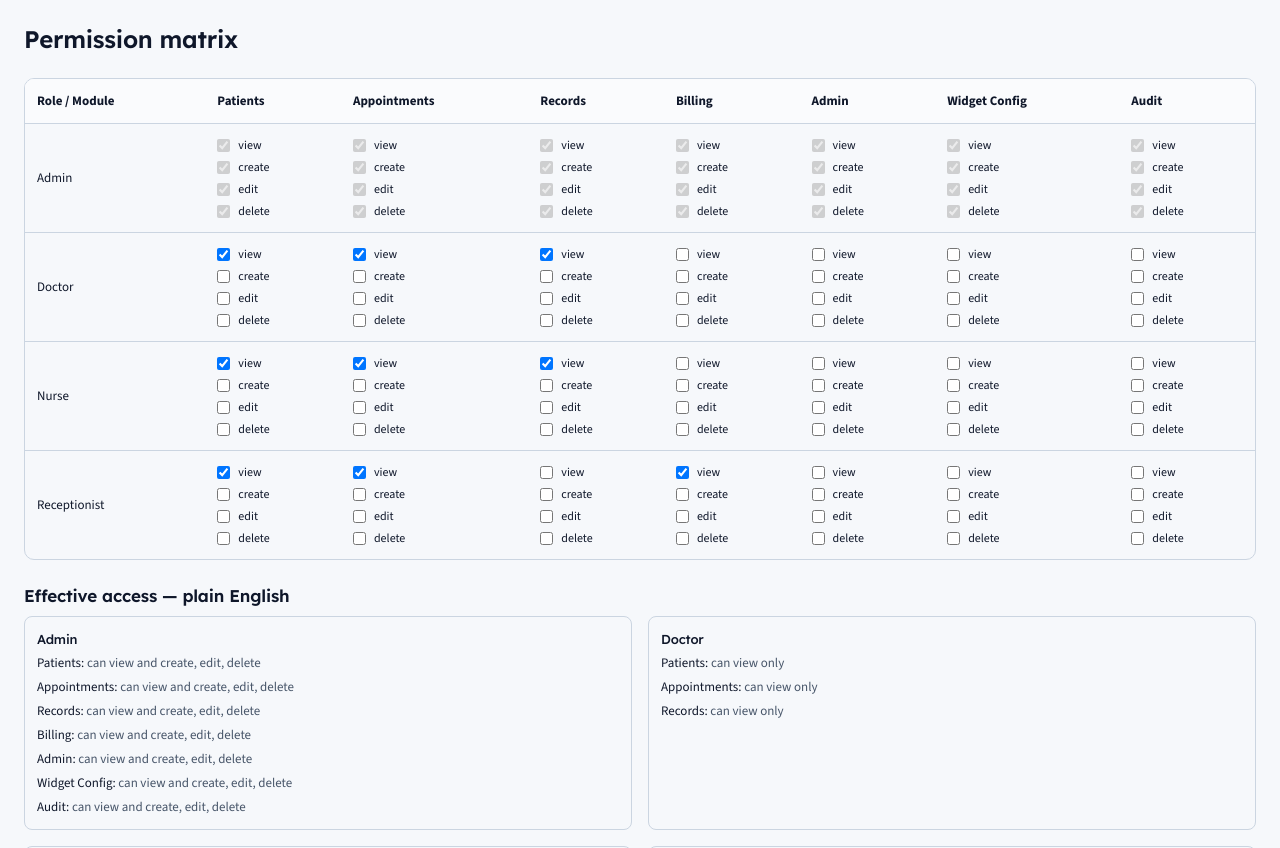
Test case: Permission matrix wiring (#50) › keeps pending changes on screen when the save fails
Check: the heading "Permission matrix" is shown, box [24,24,238,54]
Click the 10th checkbox labelled "view". click: (547, 254)
box: [540,248,553,260]
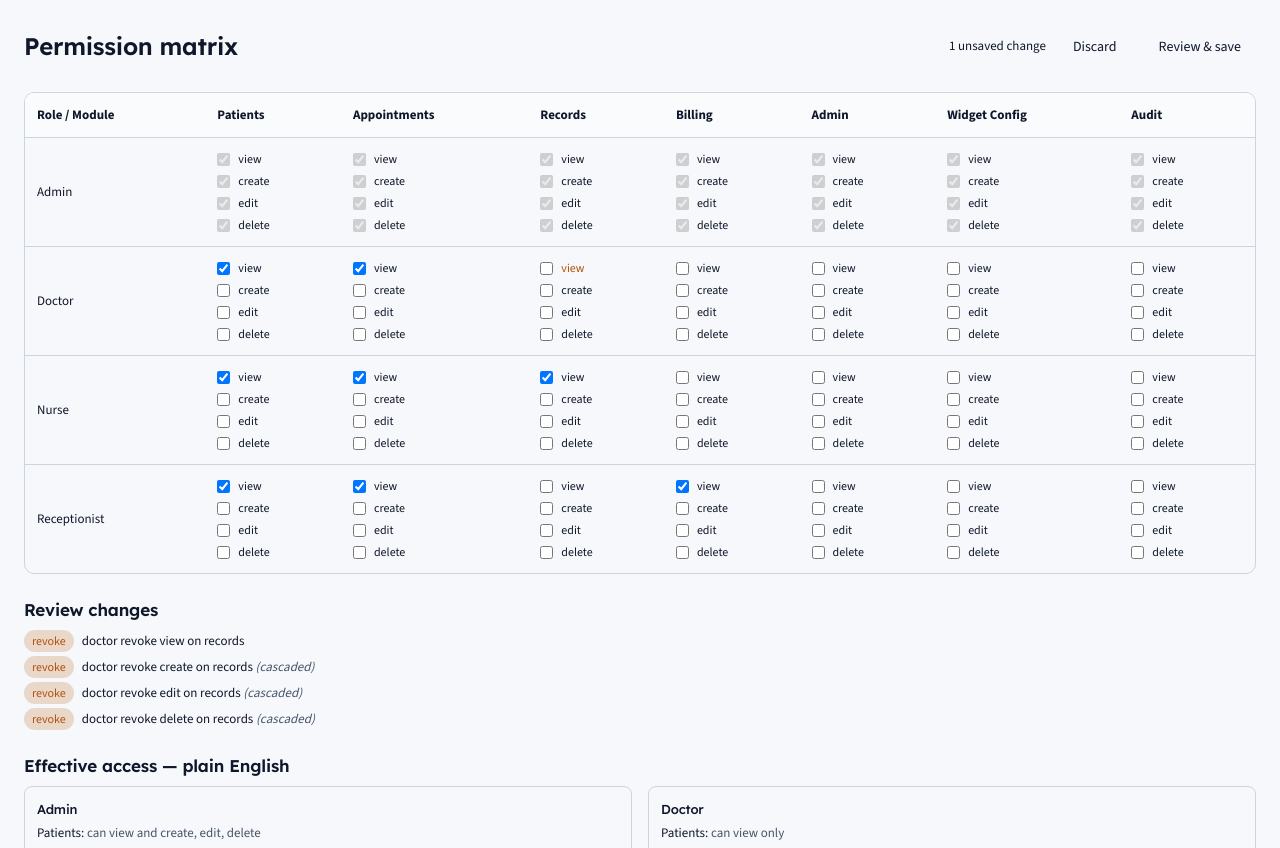
Click the button with test id "save". click: (1200, 46)
box: [1144,24,1256,68]
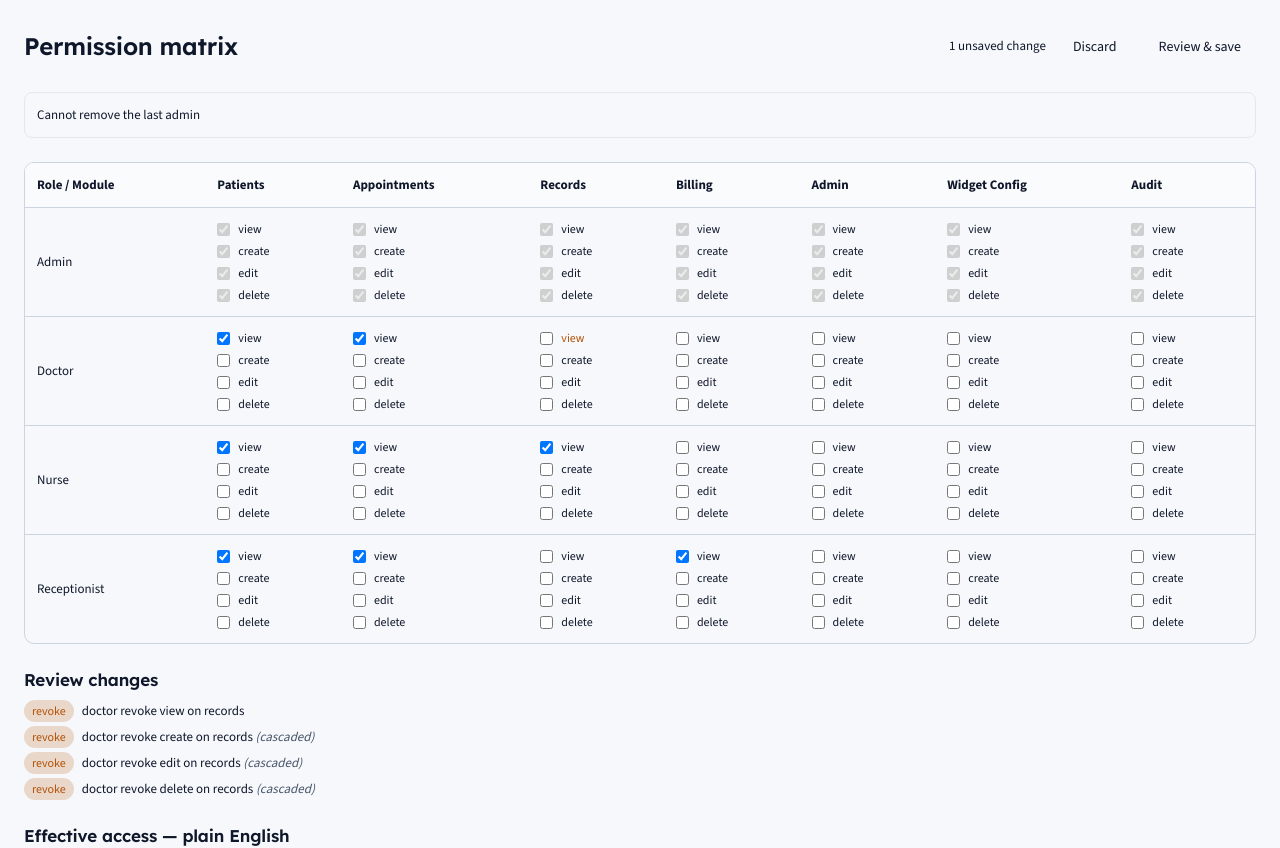
Check: the button with test id "save" is shown, box [1144,24,1256,68]
Check: the message with test id "error-toast" reads "Cannot remove the last admin", box [37,106,200,123]
